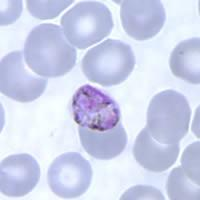Infected: (70, 83, 121, 130)
Uninfected: (79, 37, 136, 91), (58, 1, 118, 52), (24, 23, 77, 78), (0, 53, 49, 102), (146, 88, 189, 143), (134, 123, 181, 173), (47, 150, 92, 200), (119, 0, 168, 42), (75, 119, 128, 157), (0, 152, 40, 198), (169, 38, 200, 84)
